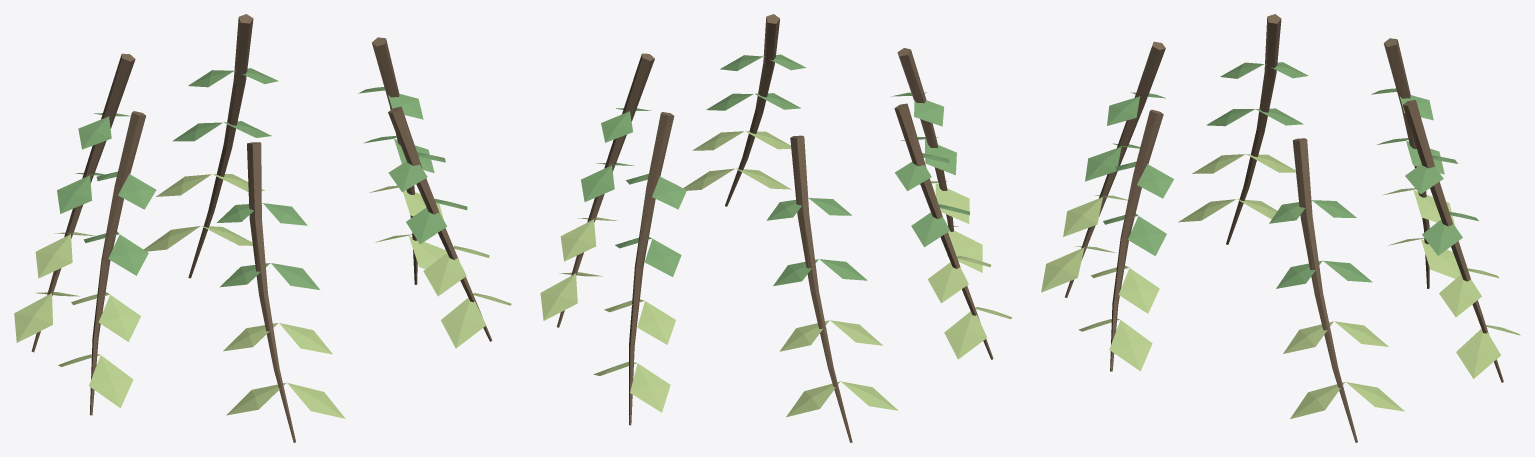
Rendered from vine_v02.glb.
3 renders of one model, left to right at view 1: azimuth 30°, elevation 25°; view 2: azimuth 150°, elevation 25°; view 3: azimuth 270°, elevation 25°, orthographic. The views are drawn at different scales.
Parts seen in each view (by area): view 1: Wildwuchs_tip_nocol, Wildwuchs_bark_nocol, Wildwuchs_green_nocol; view 2: Wildwuchs_tip_nocol, Wildwuchs_bark_nocol, Wildwuchs_green_nocol; view 3: Wildwuchs_tip_nocol, Wildwuchs_bark_nocol, Wildwuchs_green_nocol.
Boxes of the visible parts, <box> form: Wildwuchs_tip_nocol: <box>14,174,511,418</box>; Wildwuchs_bark_nocol: <box>31,14,492,442</box>; Wildwuchs_green_nocol: <box>57,68,467,289</box>; Wildwuchs_tip_nocol: <box>540,131,1012,417</box>; Wildwuchs_bark_nocol: <box>557,14,993,442</box>; Wildwuchs_green_nocol: <box>581,54,969,286</box>; Wildwuchs_tip_nocol: <box>1041,154,1520,418</box>; Wildwuchs_bark_nocol: <box>1065,14,1503,442</box>; Wildwuchs_green_nocol: <box>1085,62,1478,288</box>.
Size of the model in its own units: 4.01 by 2.68 by 4.08.
